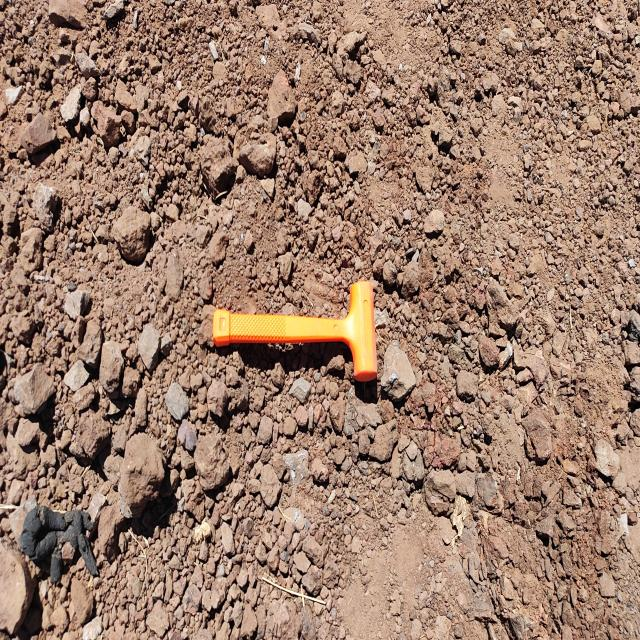Orange_hammer: (212, 278, 378, 385)
